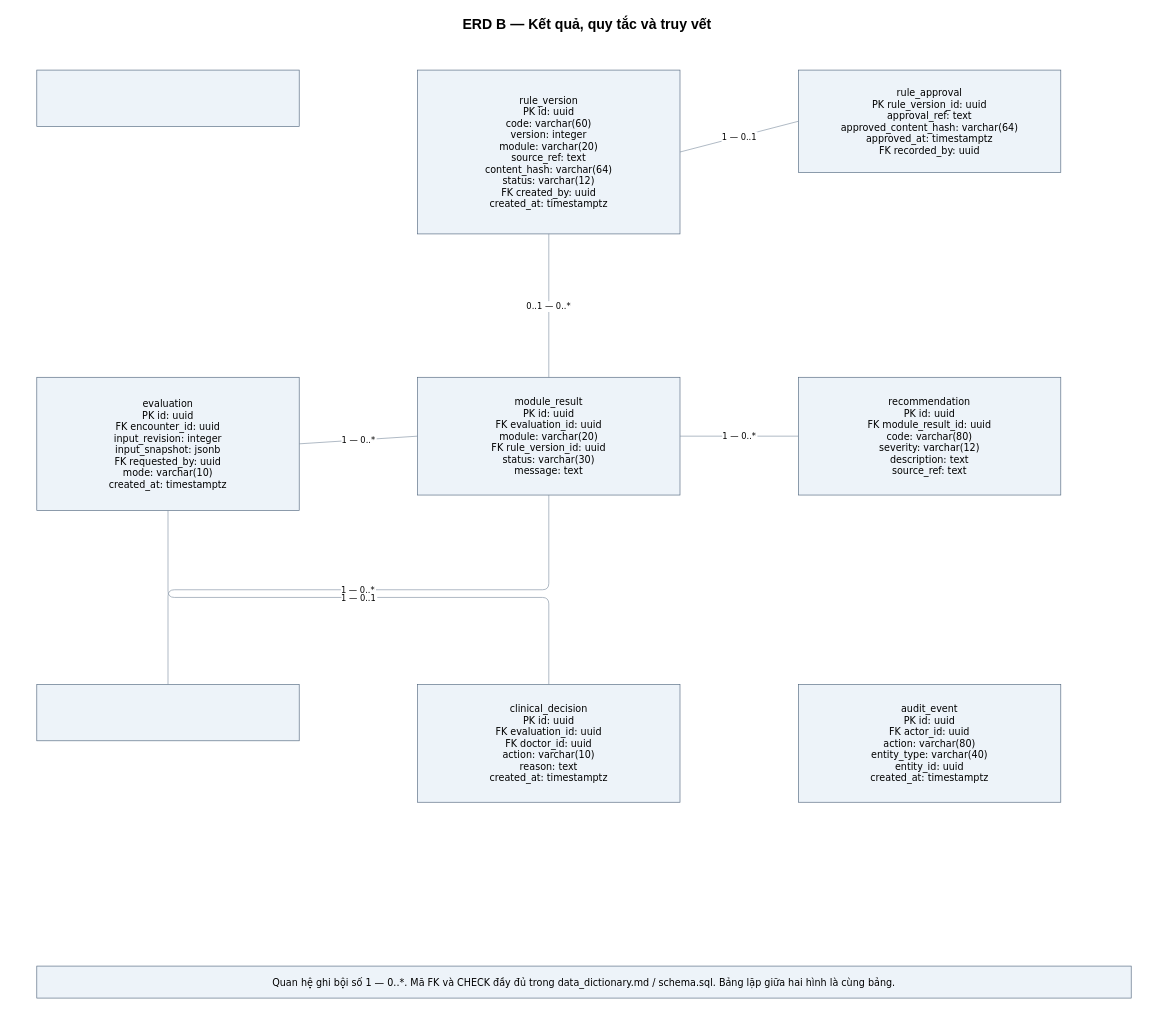
The diagram is 1174 pixels wide and 1009 high, and some of its shapes have lost their labels. The centre of each missing label's shape, as x and y in pixels:
ingredient PK code: varchar(60) display_name: text: the point at 167,97
result_missing_field PK/FK module_result_id: uuid PK/FK field_code: varchar(60): the point at 167,712
